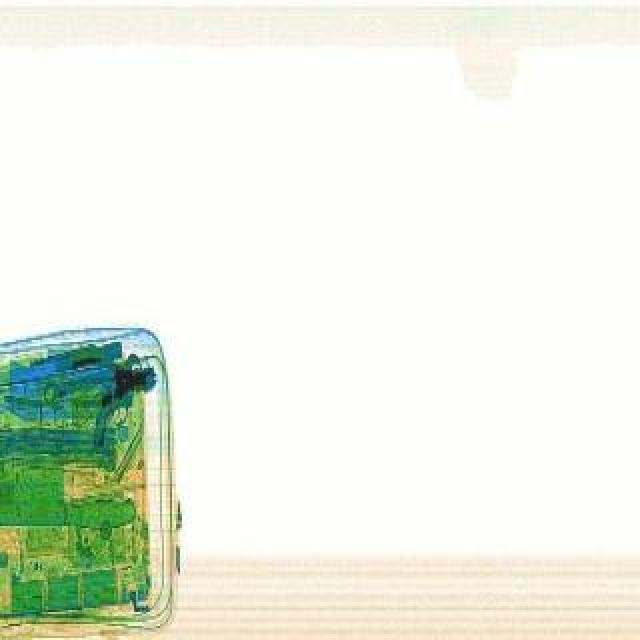gun: (86, 378, 164, 446)
knife: (0, 458, 138, 528)
scissors: (38, 352, 146, 406)
wrench: (72, 358, 158, 406)
